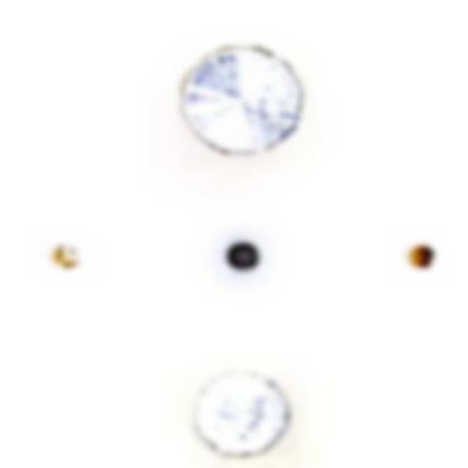abnormal: (168, 40, 327, 181), (175, 365, 305, 464)
cancer: (203, 220, 292, 289)
normal: (46, 233, 95, 282), (395, 237, 444, 283)
